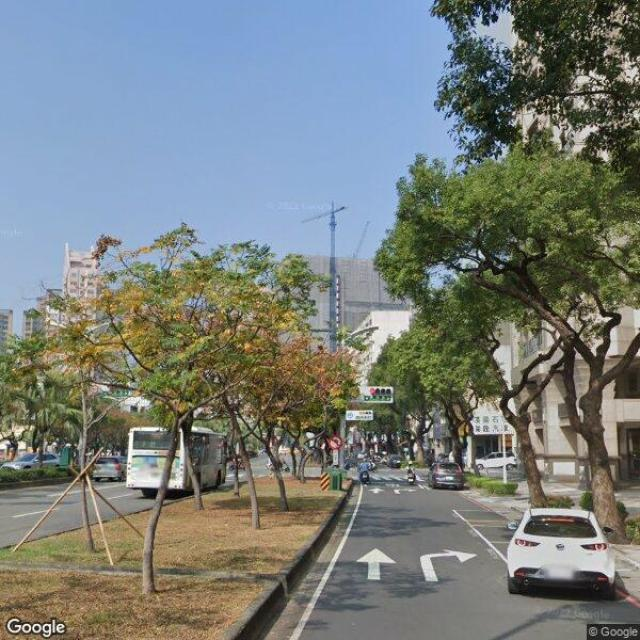Legalparking: (6, 438, 64, 476), (429, 458, 473, 502), (480, 451, 518, 478)
illegalparking: (500, 510, 640, 618), (121, 418, 248, 503)
